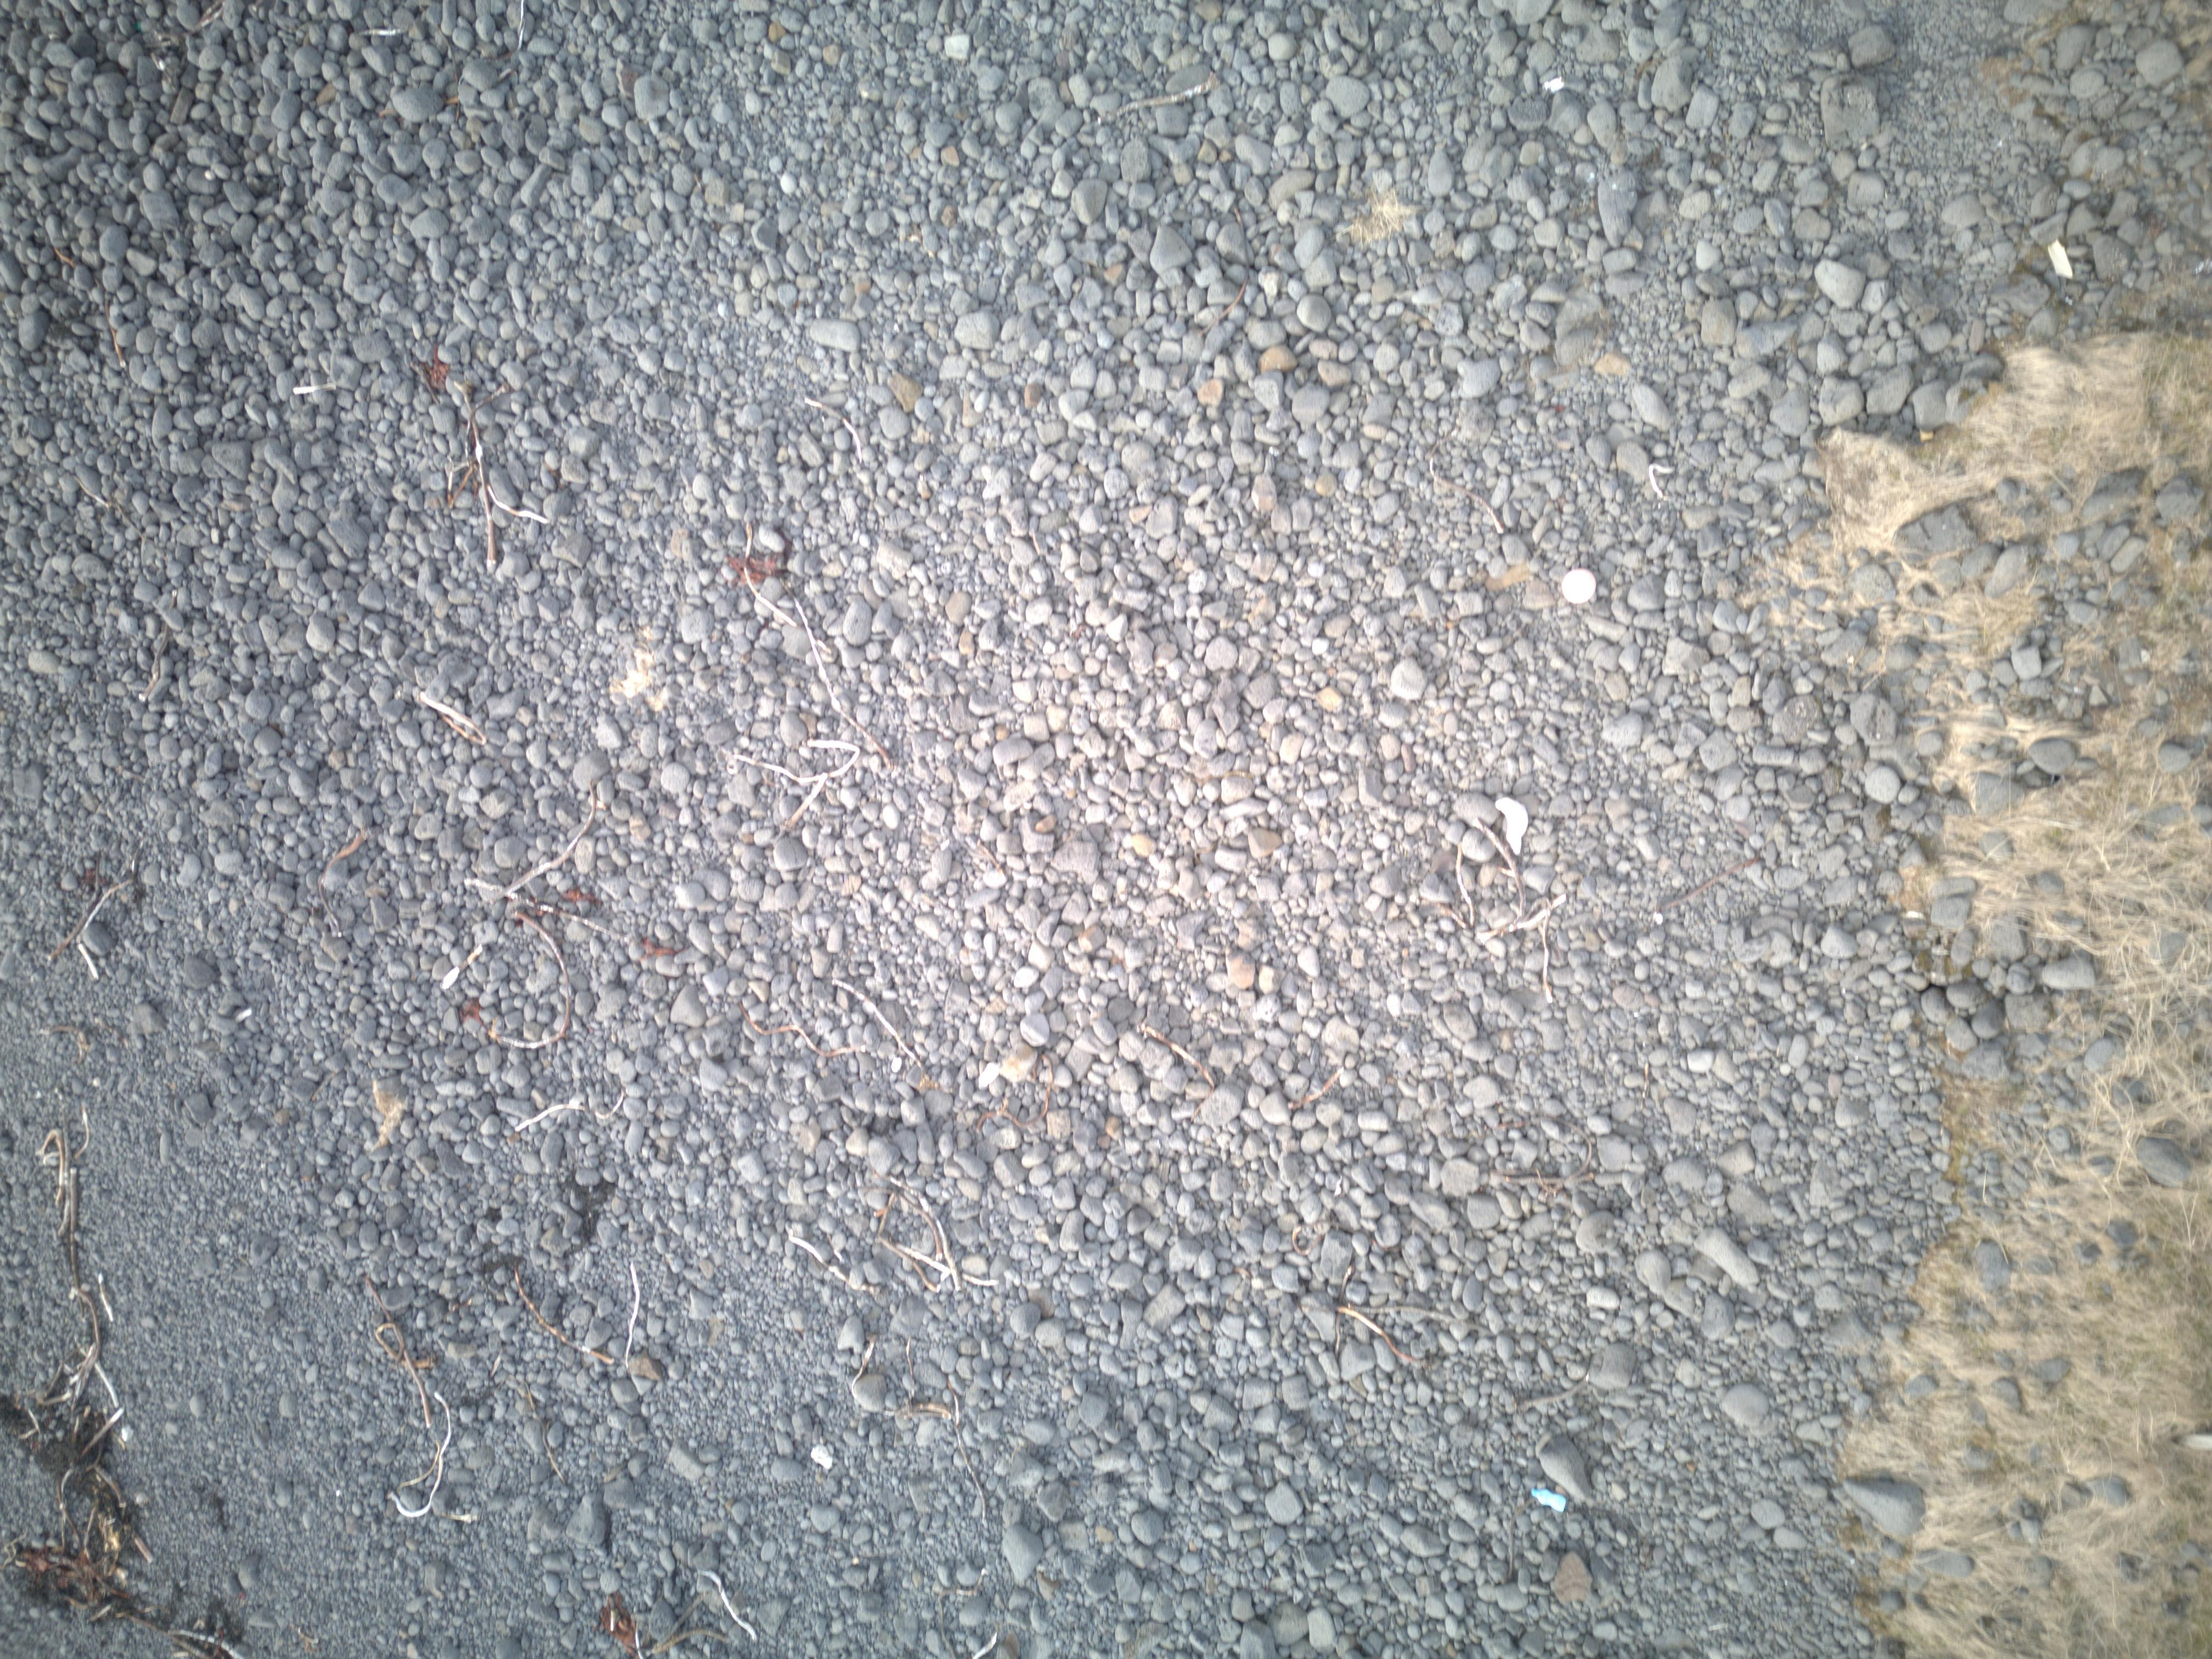trash: (1529, 1486, 1568, 1513)
